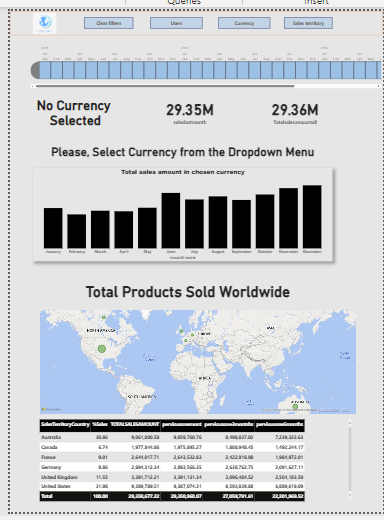

The page's visual inventory and layout, read from the dashboard file:
{"tool":"powerbi","page":{"name":"dashboard","canvas":[1280,1720],"ordinal":0},"visuals":[{"type":"shape","box":[0,0,1279.7,83.5],"z":0},{"type":"actionButton","box":[254.4,21.5,169.6,40.5],"z":1000},{"type":"image","box":[0,0,238,83.5],"z":2000},{"type":"actionButton","box":[481,21.5,181,40.5],"z":3000},{"type":"actionButton","box":[713.9,21.5,179.7,40.5],"z":4000},{"type":"actionButton","box":[939.2,21.5,167.1,40.5],"z":5000},{"type":"Timeline1447991079100","fields":{"Time":["dim_date.Date"]},"box":[65.6,109.4,1214.4,161.4],"z":7000},{"type":"card","fields":{"Values":["#measuers.SalesAmountSelectedCurrency"]},"box":[77.5,271.2,291.2,145],"z":8000},{"type":"card","fields":{"Values":["#measuers.saleslastmonth"]},"box":[481.2,271.2,273.8,145],"z":18000},{"type":"card","fields":{"Values":["#measuers.Totalsalesamountall"]},"box":[851.2,271.2,255,145],"z":19000},{"type":"card","fields":{"Values":["#measuers.TITLEBAR"]},"box":[77.9,439,1028.4,76.6],"z":20000},{"type":"lineClusteredColumnComboChart","title":"Total sales amount in chosen currency","fields":{"Category":["dim_date.mounth name"],"Y":["#measuers.Totalsalesamountall"]},"box":[77.9,540.2,1028.4,320],"z":21000},{"type":"card","fields":{"Values":["#measuers.MapTitle"]},"box":[98.5,893,1022.9,131.3],"z":22000},{"type":"map","fields":{"Category":["dim_SalesTeritory.SalesTerritoryCountry"],"Size":["#measuers.ProductsSold"]},"box":[98.5,1024.3,1095.4,363.8],"z":23000},{"type":"tableEx","fields":{"Values":["dim_SalesTeritory.SalesTerritoryCountry","#measuers.%slaes","#measuers.TOTALSALESAMOUNT","#measuers.perviousonemont","#measuers.perviousone3montshs","#measuers.perviousone6months"]},"box":[97.5,1397.5,1080.8,291],"z":24000}]}

Visuals, with their boxes on the page's 1280x1720 design canvas (x1, y1, x2, y2). These are canvas units, not pixel positions in the 384x520 screenshot, which may show the page scaled, cropped or inside an application window:
shape: 0 0 1280 84
actionButton: 254 22 424 62
image: 0 0 238 84
actionButton: 481 22 662 62
actionButton: 714 22 894 62
actionButton: 939 22 1106 62
Timeline1447991079100 - dim_date.Date: 66 109 1280 271
card - #measuers.SalesAmountSelectedCurrency: 78 271 369 416
card - #measuers.saleslastmonth: 481 271 755 416
card - #measuers.Totalsalesamountall: 851 271 1106 416
card - #measuers.TITLEBAR: 78 439 1106 516
"Total sales amount in chosen currency" lineClusteredColumnComboChart: 78 540 1106 860
card - #measuers.MapTitle: 98 893 1121 1024
map - dim_SalesTeritory.SalesTerritoryCountry x #measuers.ProductsSold: 98 1024 1194 1388
tableEx - dim_SalesTeritory.SalesTerritoryCountry x #measuers.%slaes: 98 1398 1178 1688
